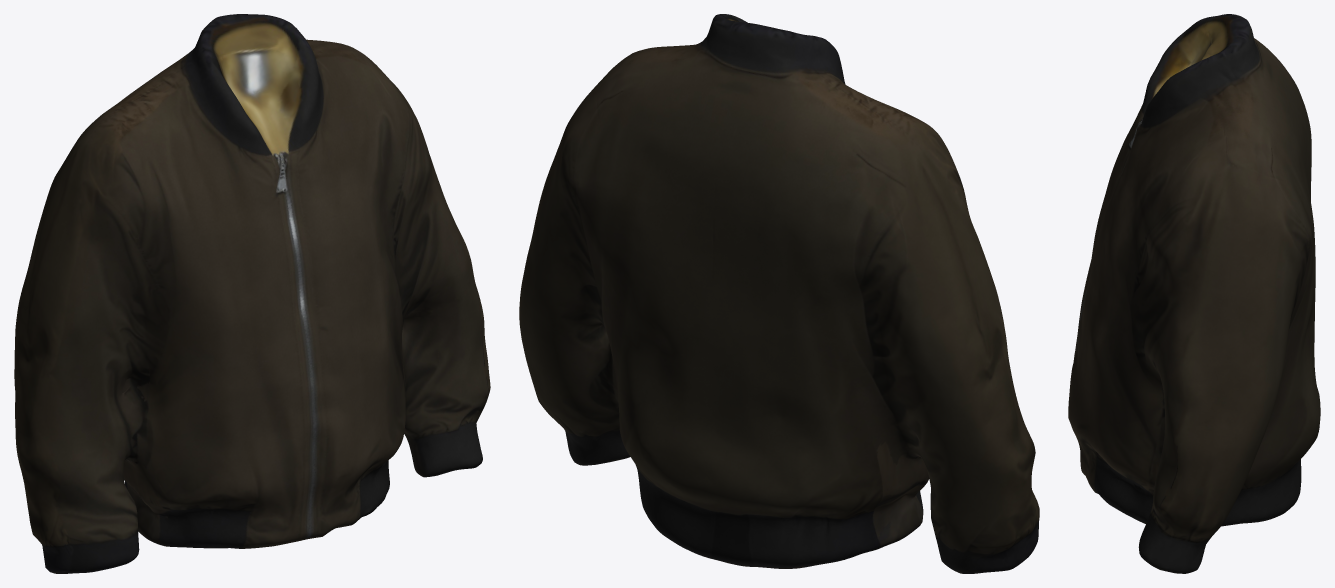
Rendered from hugobossbomber.glb.
3 views of the same model, side by side, from view 1: azimuth 30°, elevation 25°; view 2: azimuth 150°, elevation 25°; view 3: azimuth 270°, elevation 25° (orthographic). The views are drawn at different scales.
Parts seen in each view (by area): view 1: Mesh_0; view 2: Mesh_0; view 3: Mesh_0.
Boxes of the visible parts, bbox=[...] form: Mesh_0: bbox=[14, 14, 490, 573]; Mesh_0: bbox=[519, 14, 1039, 573]; Mesh_0: bbox=[1068, 14, 1320, 573].
Bounding box in the file's own units: 1.18 × 1.2 × 0.5823.
Materials: 1 (1 with a texture image).
